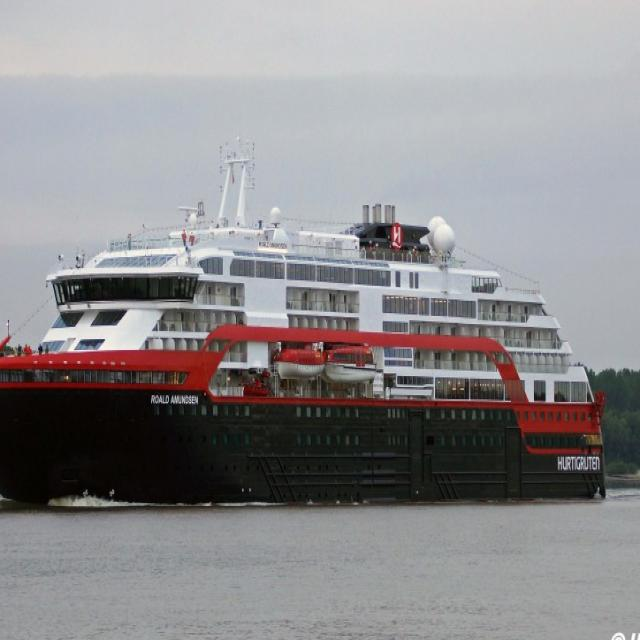cruises: (1, 124, 616, 515)
